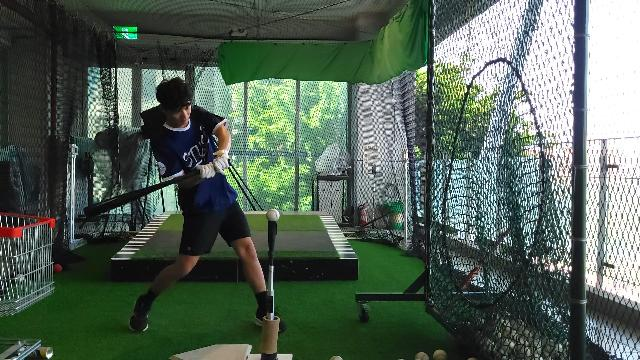ball: (265, 209, 281, 222)
bat: (82, 170, 200, 219)
